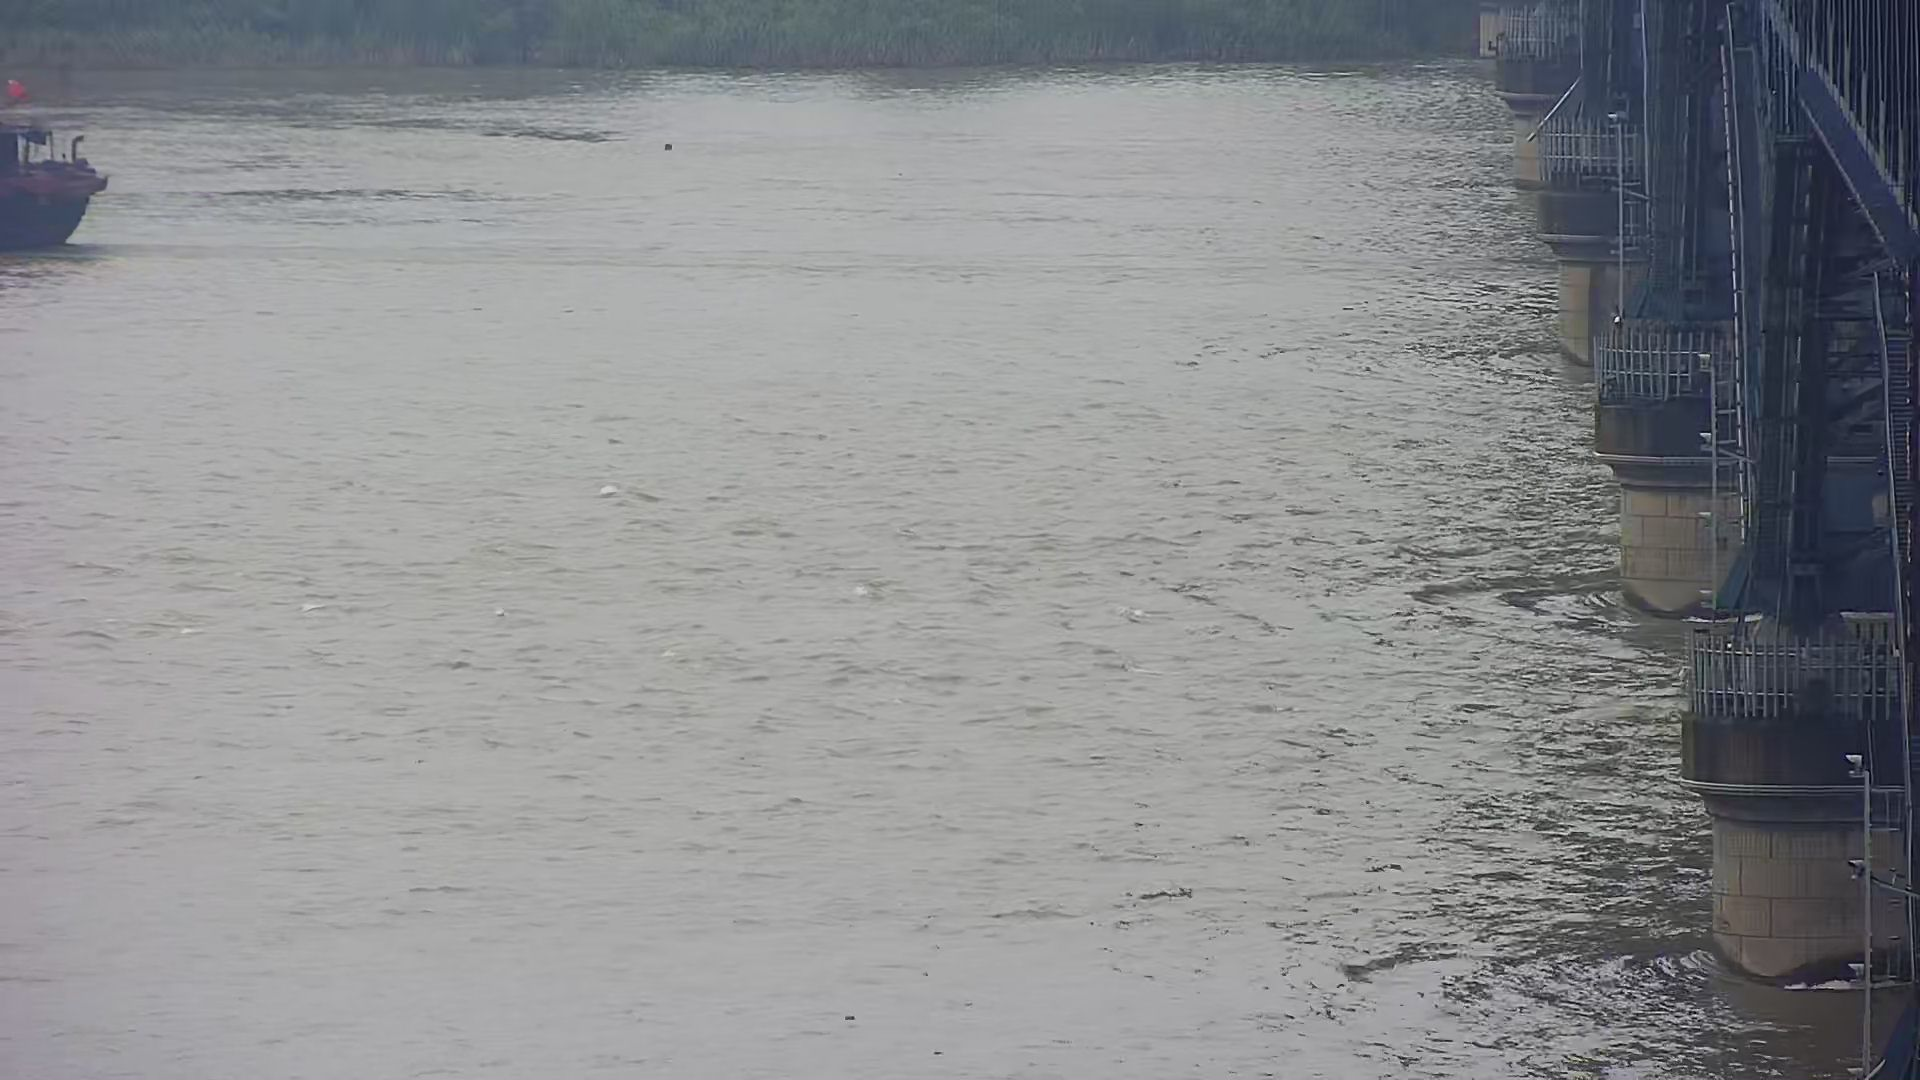bridge: (1575, 390, 1913, 1072), (1480, 1, 1919, 389)
rubbish: (654, 129, 684, 160)
